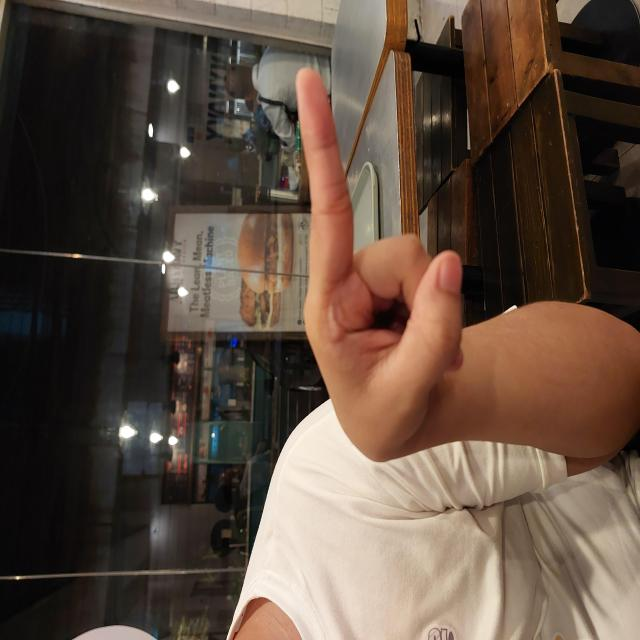Z: (175, 294, 576, 466)
